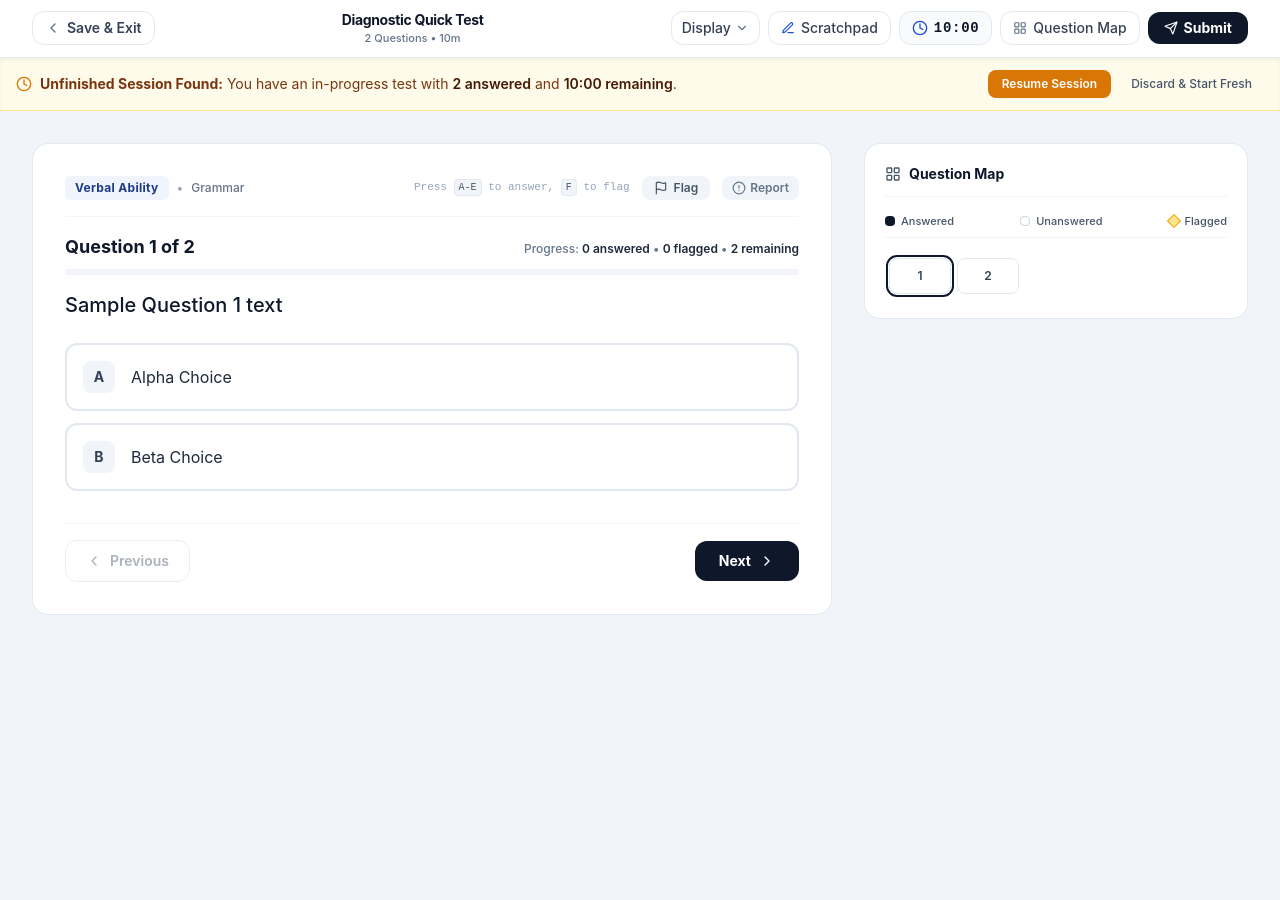
Test case: ExamRunner Component › renders Save & Exit and handles confirmation modal for unanswered test
The width and height of the screenshot is (1280, 900).
Click the button with aria-label "save and exit": (93, 28) top-left (32, 11), bottom-right (154, 45)
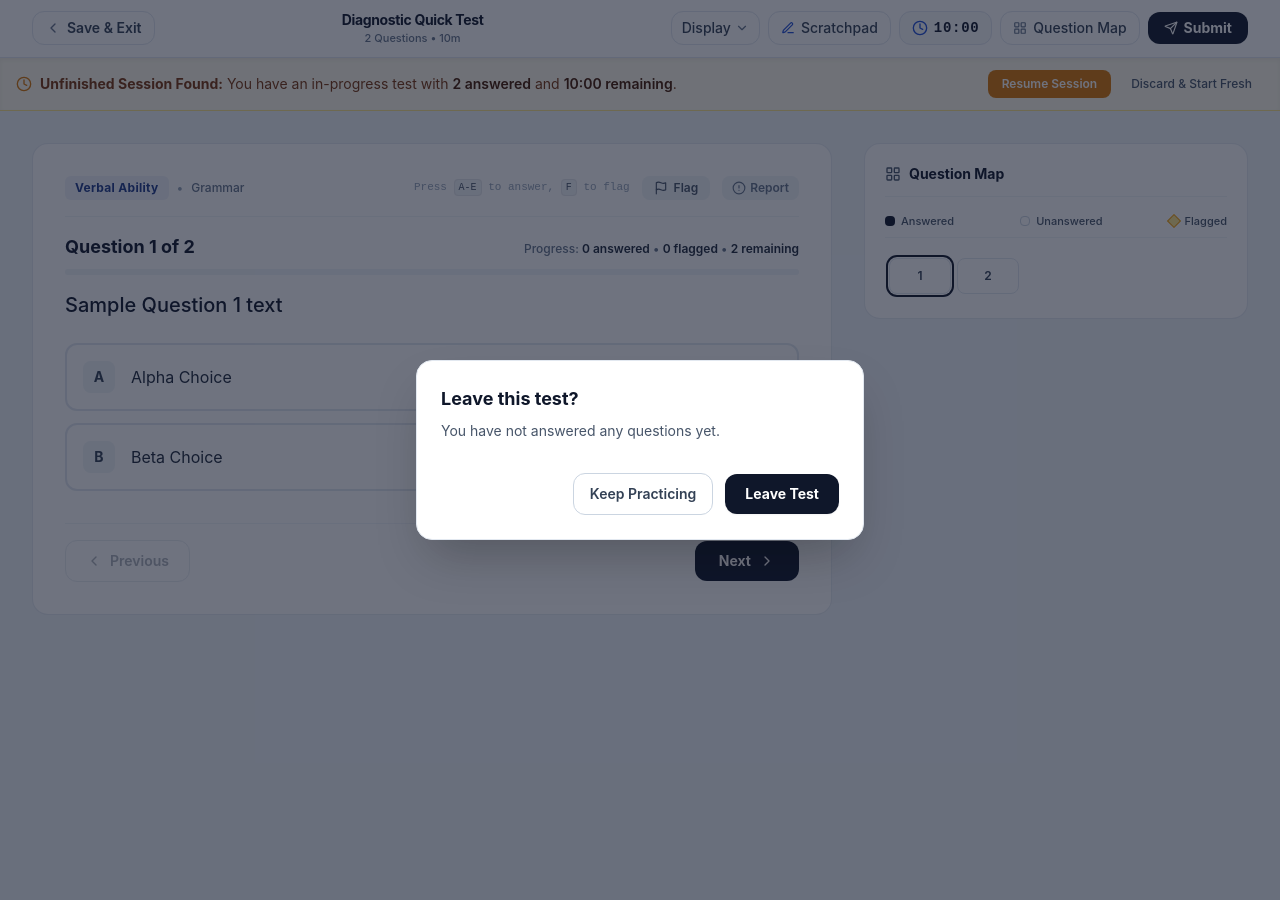
Expected: the heading "Leave this test?" is shown, top-left (441, 388), bottom-right (579, 409)
Expected: the text "You have not answered any questions yet." is shown, top-left (441, 422), bottom-right (720, 439)
Expected: the button "Keep Practicing" is shown
Note: Click Keep Practicing to dismiss
Click the button "Keep Practicing": (643, 494) top-left (573, 473), bottom-right (713, 515)
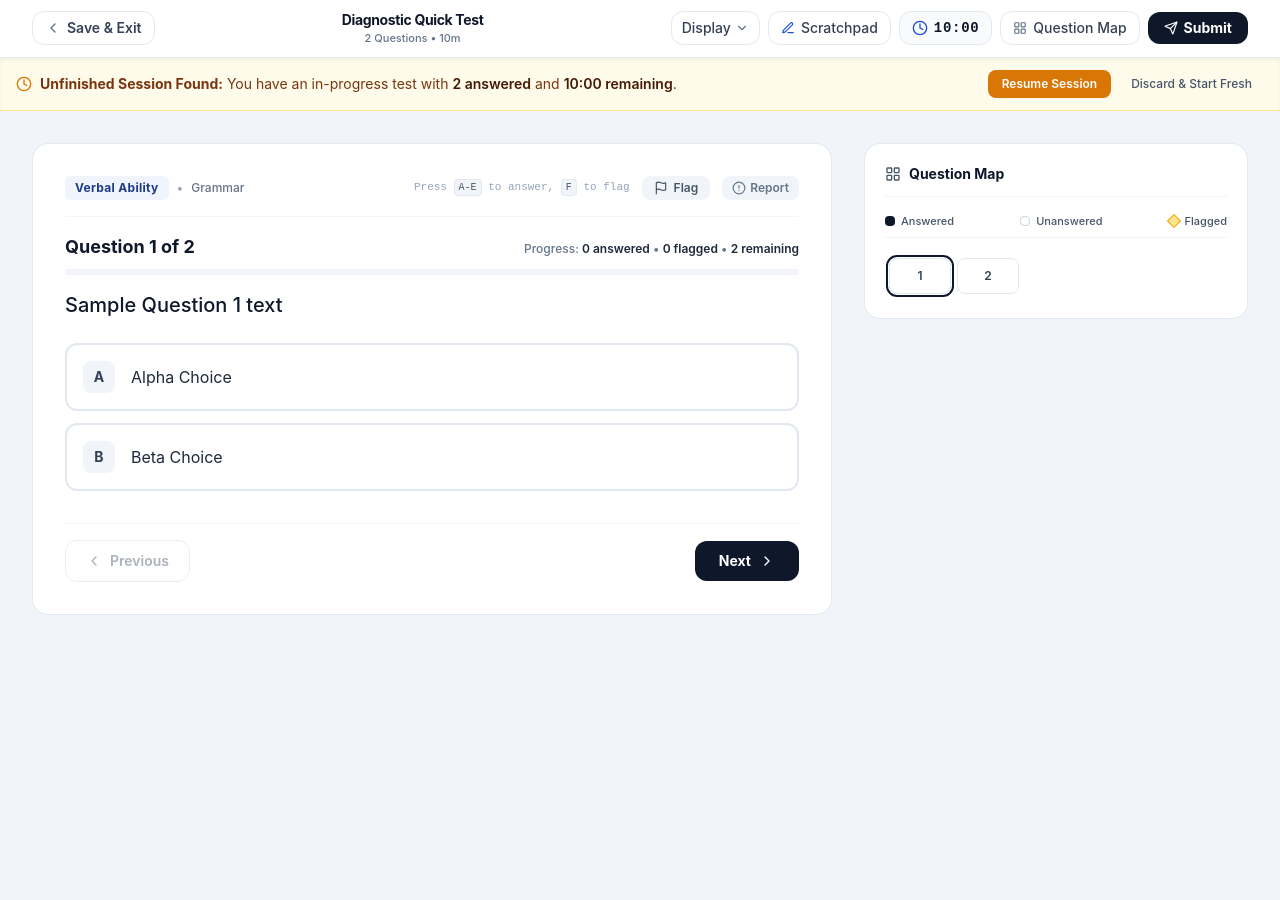
Expected: the heading "Leave this test?" is gone
